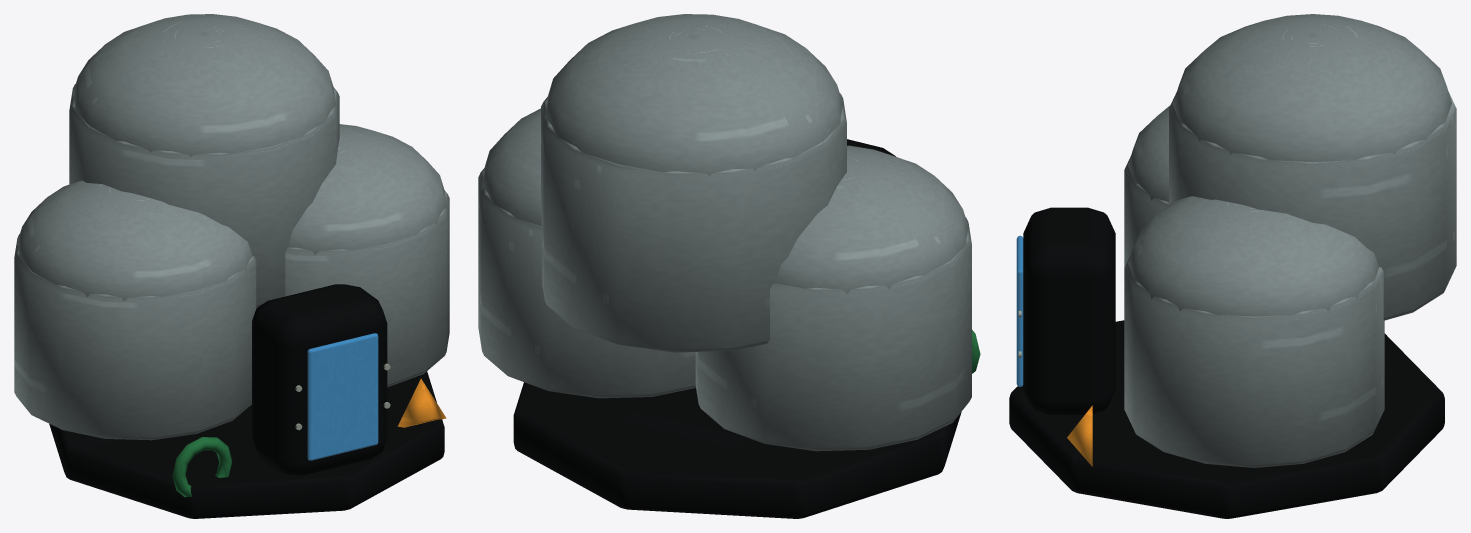
File: hive-shelter-standard.glb
3 renders of one model, left to right at view 1: azimuth 30°, elevation 25°; view 2: azimuth 150°, elevation 25°; view 3: azimuth 270°, elevation 25°, orthographic. The views are drawn at different scales.
Parts seen in each view (by area): view 1: Hive_Cell_0, Hive_Dome_2, Hive_Foundation, Hive_Cell_2, Hive_Dome_0, Hive_Airlock, Hive_Cell_1, Hive_Dome_1, Hive_Door, PORT_Life, PORT_Power.003; view 2: Hive_Cell_2, Hive_Cell_0, Hive_Dome_2, Hive_Foundation, Hive_Cell_1, Hive_Dome_0, Hive_Dome_1; view 3: Hive_Cell_1, Hive_Dome_2, Hive_Foundation, Hive_Cell_2, Hive_Dome_1, Hive_Airlock, Hive_Dome_0, Hive_Cell_0, Hive_Door, PORT_Power.003.
Part boxes in pixels (<box>): Hive_Cell_0: <box>14,234,256,440</box>; Hive_Dome_2: <box>72,14,336,157</box>; Hive_Foundation: <box>49,371,444,518</box>; Hive_Cell_2: <box>69,84,339,307</box>; Hive_Dome_0: <box>16,180,252,301</box>; Hive_Airlock: <box>252,284,387,475</box>; Hive_Cell_1: <box>285,190,449,387</box>; Hive_Dome_1: <box>288,124,447,254</box>; Hive_Door: <box>307,333,378,460</box>; PORT_Life: <box>172,437,232,497</box>; PORT_Power.003: <box>397,378,446,427</box>; Hive_Cell_2: <box>541,93,846,352</box>; Hive_Cell_0: <box>695,217,971,451</box>; Hive_Dome_2: <box>544,14,843,176</box>; Hive_Foundation: <box>513,382,961,518</box>; Hive_Cell_1: <box>478,168,695,398</box>; Hive_Dome_0: <box>775,145,969,293</box>; Hive_Dome_1: <box>481,108,541,226</box>; Hive_Cell_1: <box>1124,255,1384,467</box>; Hive_Dome_2: <box>1173,14,1451,162</box>; Hive_Foundation: <box>1009,320,1444,518</box>; Hive_Cell_2: <box>1169,92,1456,320</box>; Hive_Dome_1: <box>1128,196,1379,316</box>; Hive_Airlock: <box>1023,207,1115,414</box>; Hive_Dome_0: <box>1128,105,1170,202</box>; Hive_Cell_0: <box>1124,156,1168,267</box>; Hive_Door: <box>1016,235,1023,386</box>; PORT_Power.003: <box>1067,405,1092,466</box>.
Size of the model in its own units: 1.44 by 1.27 by 1.31.
7 materials, 7 textured.
